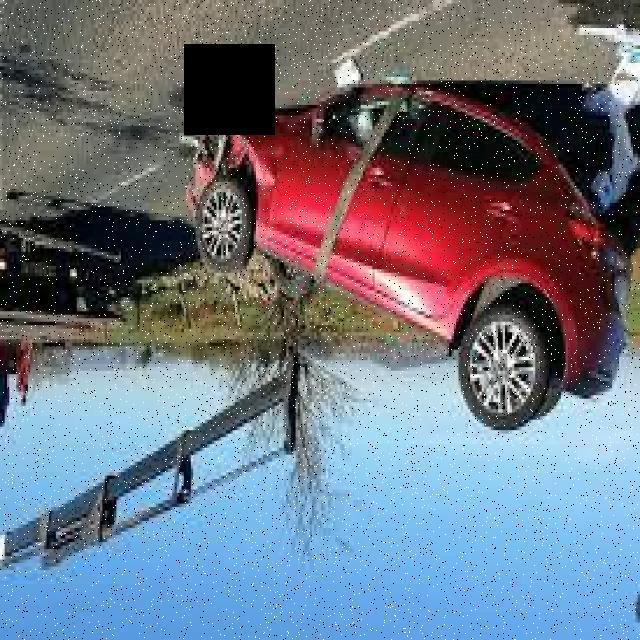severe: (183, 77, 632, 430)
